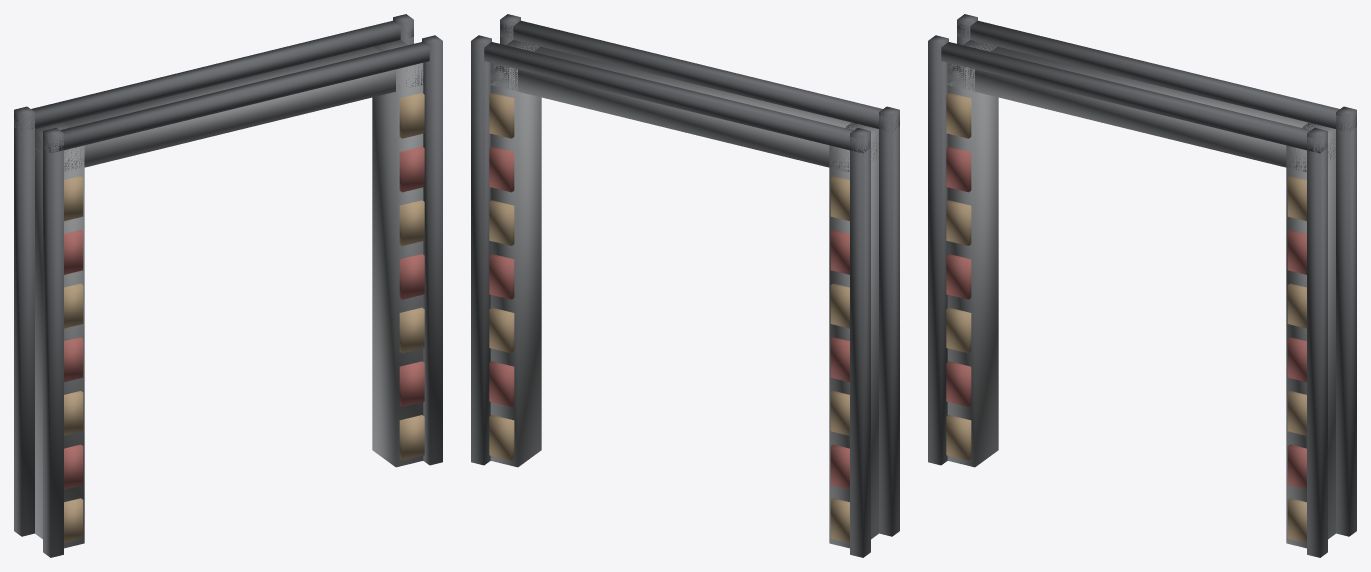
File: doorway_brick_return_w182_h210_d24.glb
3 renders of one model, left to right at view 1: azimuth 30°, elevation 25°; view 2: azimuth 150°, elevation 25°; view 3: azimuth 330°, elevation 25°, orthographic.
Visible parts, largest first — view 1: world; view 2: world; view 3: world.
Part boxes in pixels (left/top/right/bottom): world: left=14, top=14, right=442, bottom=557; world: left=471, top=14, right=899, bottom=557; world: left=928, top=14, right=1356, bottom=557.
Bounding box in the file's own units: 2.29 × 2.36 × 0.3706.
